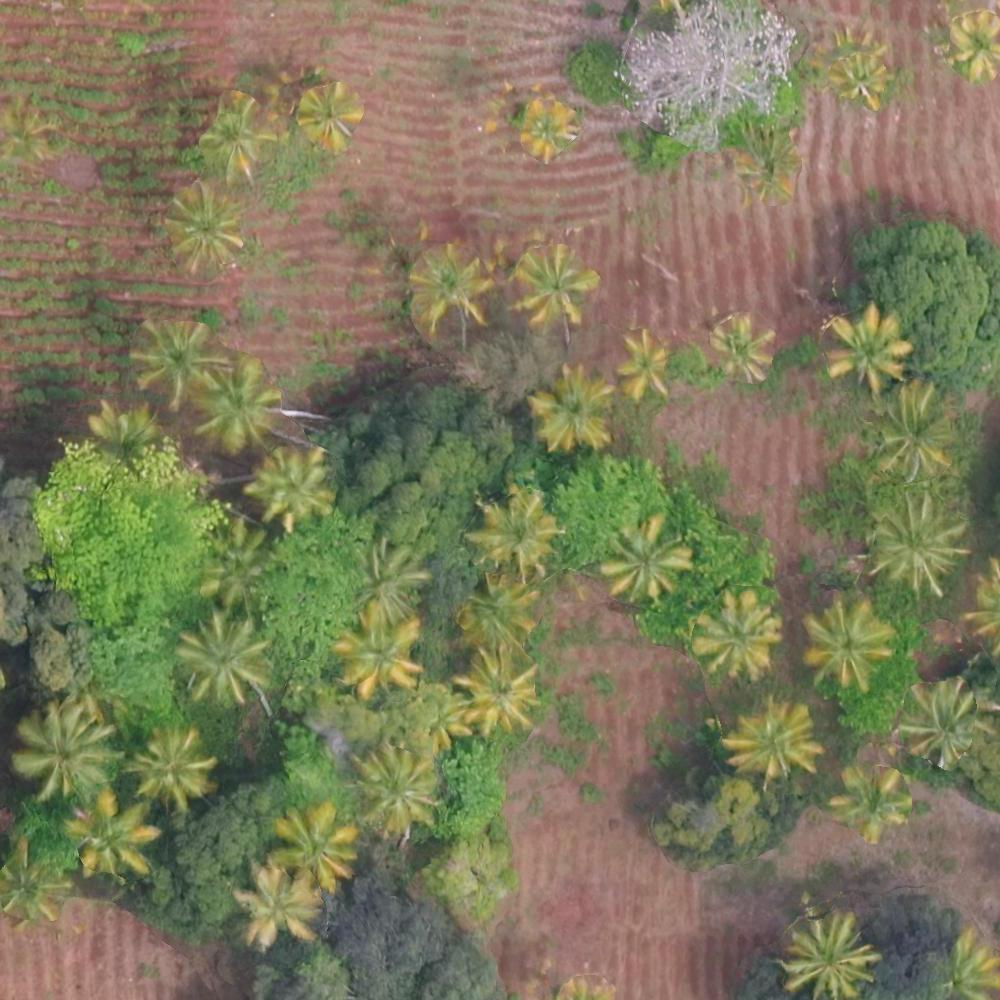Palm: (15, 706, 115, 800), (870, 493, 964, 589), (802, 597, 890, 689), (787, 910, 879, 998), (333, 606, 422, 693), (725, 701, 819, 783), (528, 371, 613, 460), (476, 491, 565, 574), (870, 386, 953, 473), (357, 747, 433, 841), (449, 651, 537, 732), (829, 304, 912, 389), (826, 762, 910, 845), (603, 519, 691, 597), (131, 317, 214, 399), (691, 591, 771, 676), (236, 864, 317, 947), (275, 808, 354, 893), (409, 249, 486, 334), (197, 364, 278, 444), (247, 447, 327, 528), (515, 244, 596, 322), (182, 616, 263, 694), (133, 724, 211, 805), (457, 573, 538, 651), (74, 795, 154, 872), (705, 310, 781, 390), (162, 190, 243, 265), (202, 96, 270, 177), (298, 82, 359, 147), (942, 13, 1000, 75), (517, 97, 572, 162), (610, 331, 670, 390)
